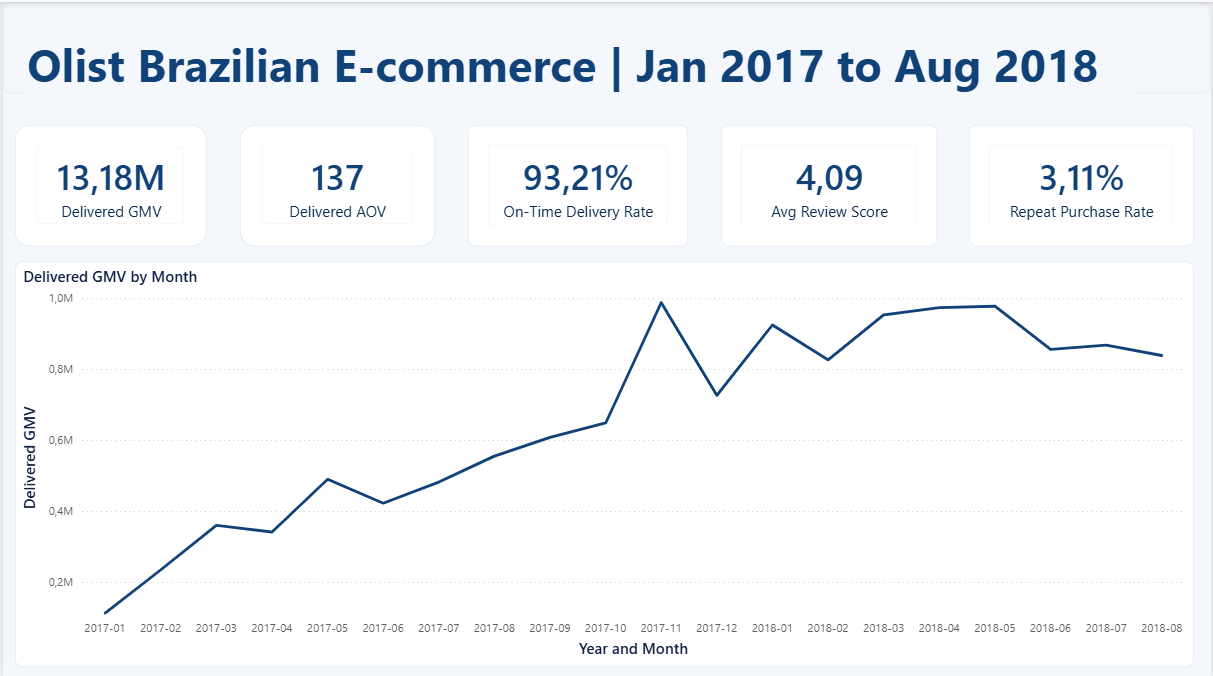

Layout of this report page (visuals, bound fields, positions):
{"tool":"powerbi","page":{"name":"Overview","canvas":[1280,720],"ordinal":0},"visuals":[{"type":"cardVisual","fields":{"Data":["_Measures.Delivered GMV"]},"box":[13.3,130,203.3,128.3],"z":0},{"type":"cardVisual","fields":{"Data":["_Measures.Delivered AOV"]},"box":[251.7,130,206.7,128.3],"z":1000},{"type":"cardVisual","fields":{"Data":["_Measures.On-Time Delivery Rate"]},"box":[493.3,130,233.3,128.3],"z":2000},{"type":"cardVisual","fields":{"Data":["_Measures.Avg Review Score"]},"box":[761.7,130,228.3,128.3],"z":3000},{"type":"cardVisual","fields":{"Data":["_Measures.Repeat Purchase Rate"]},"box":[1025,130,238.3,128.3],"z":4000},{"type":"lineChart","title":"Delivered GMV by Month","fields":{"Category":["dw dim_date.year_month"],"Y":["_Measures.Delivered GMV"]},"box":[13.3,275,1250,430],"z":5000},{"type":"textbox","box":[0,0,1280,96.7],"z":6000},{"type":"textbox","box":[20,26.7,1180,81.7],"z":7000}]}

Visuals, with their boxes in screenshot pixels (x1, y1, x2, y2), scaled from the page's 1280x720 canvas onto the 1213x676 screenshot:
cardVisual - _Measures.Delivered GMV: l=13, t=122, r=205, b=243
cardVisual - _Measures.Delivered AOV: l=239, t=122, r=434, b=243
cardVisual - _Measures.On-Time Delivery Rate: l=467, t=122, r=689, b=243
cardVisual - _Measures.Avg Review Score: l=722, t=122, r=938, b=243
cardVisual - _Measures.Repeat Purchase Rate: l=971, t=122, r=1197, b=243
"Delivered GMV by Month" lineChart: l=13, t=258, r=1197, b=662
textbox: l=0, t=0, r=1212, b=91
textbox: l=19, t=25, r=1137, b=102
